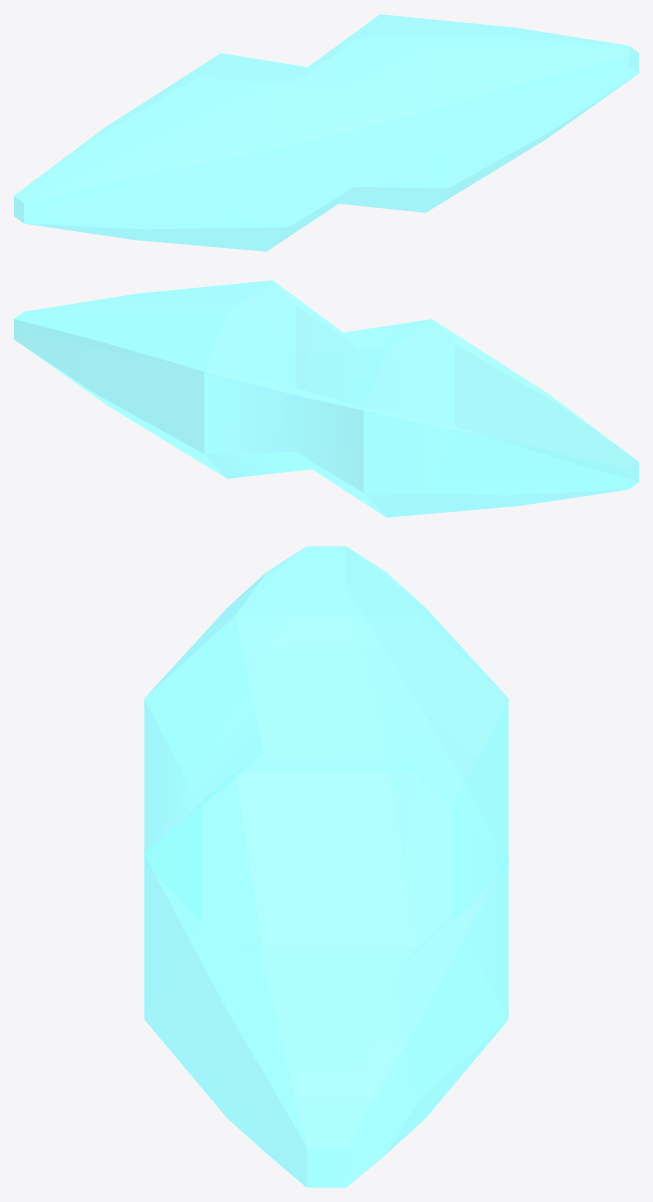
The model's file is bullet_ice_alexius.fbx.
3 renders of one model, top to bottom at view 1: azimuth 30°, elevation 25°; view 2: azimuth 150°, elevation 25°; view 3: azimuth 270°, elevation 25°, orthographic. The views are drawn at different scales.
Parts seen in each view (by area): view 1: pCube1; view 2: pCube1; view 3: pCube1.
Part boxes in pixels (left/top/right/bottom): pCube1: left=14, top=14, right=638, bottom=251; pCube1: left=14, top=280, right=638, bottom=517; pCube1: left=144, top=546, right=508, bottom=1187.
Bounding box in the file's own units: 1.38 × 0.3545 × 0.3545.
